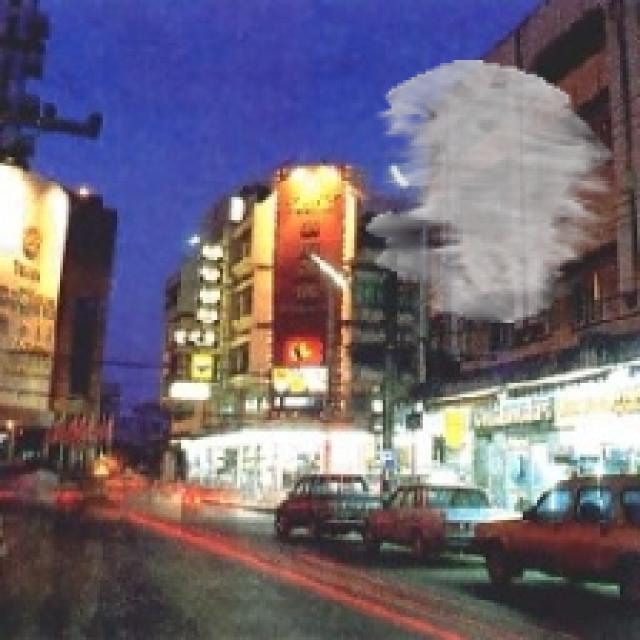Smoke: (366, 60, 618, 323)
